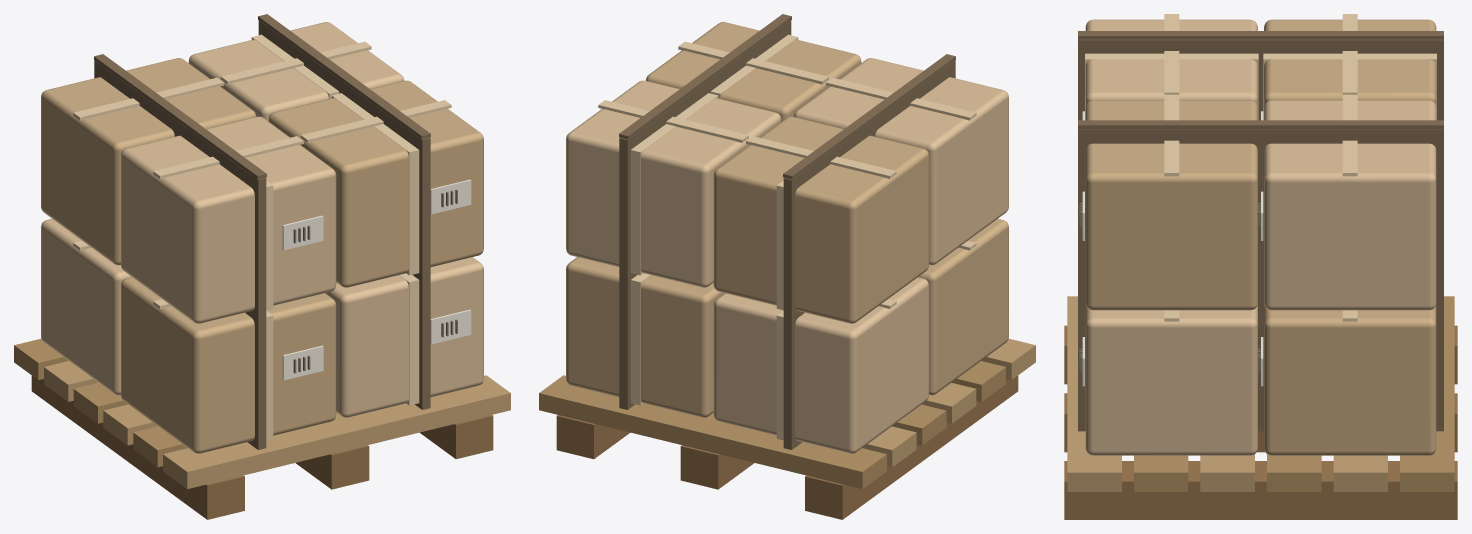
The model's file is pallet-0-blue.glb.
The picture shows the model from 3 angles, left to right: view 1: azimuth 30°, elevation 25°; view 2: azimuth 150°, elevation 25°; view 3: azimuth 270°, elevation 25°; orthographic projection. The views are drawn at different scales.
Parts seen in each view (by area): view 1: static-7--69, static-7--14, static-7--11, static-3--5, static-3--9, static-7--66, static-7--59, static-7--52, static-3--7, static-7--45; view 2: static-7--14, static-7--69, static-7--11, static-3--7, static-3--9, static-7--66, static-7--59, static-3--5; view 3: static-7--69, static-7--14, static-7--11, static-3--9, static-3--7, static-3--5, static-7--59, static-7--66, static-7--52.
Boxes of the visible parts, <box> form: static-7--69: <box>41,22,483,417</box>; static-7--14: <box>41,58,483,453</box>; static-7--11: <box>94,14,430,449</box>; static-3--5: <box>44,361,510,488</box>; static-3--9: <box>31,375,493,519</box>; static-7--66: <box>251,34,419,440</box>; static-7--59: <box>73,41,451,308</box>; static-7--52: <box>282,179,471,380</box>; static-3--7: <box>14,338,187,467</box>; static-7--45: <box>293,189,457,373</box>; static-7--14: <box>566,22,1008,417</box>; static-7--69: <box>566,58,1008,453</box>; static-7--11: <box>619,14,955,449</box>; static-3--7: <box>539,361,1005,488</box>; static-3--9: <box>556,375,1018,519</box>; static-7--66: <box>630,34,798,440</box>; static-7--59: <box>598,41,976,308</box>; static-3--5: <box>862,338,1035,467</box>; static-7--69: <box>1085,19,1436,455</box>; static-7--14: <box>1085,19,1436,455</box>; static-7--11: <box>1078,31,1443,431</box>; static-3--9: <box>1064,325,1457,519</box>; static-3--7: <box>1134,296,1454,491</box>; static-3--5: <box>1067,296,1387,491</box>; static-7--59: <box>1164,14,1357,321</box>; static-7--66: <box>1085,53,1436,120</box>; static-7--52: <box>1082,111,1263,386</box>.
Size of the model in its own units: 1.38 by 1.33 by 1.3.
